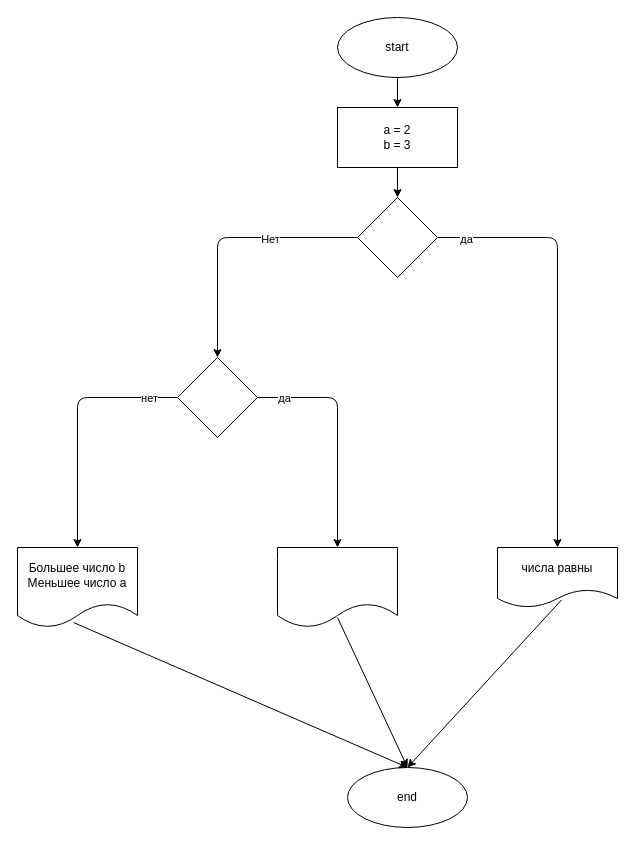
Image size: 635x845. Some labels were removed from this diagram. The box of each missing label's shape, as (x1, y1, x2, y2) in pixels:
a == b: (356, 196, 438, 278)
a > b: (176, 356, 258, 438)
Большее число a Меньшее число b: (276, 546, 398, 628)
